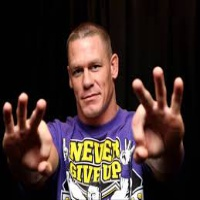ring: (148, 62, 172, 111), (14, 91, 30, 134)
